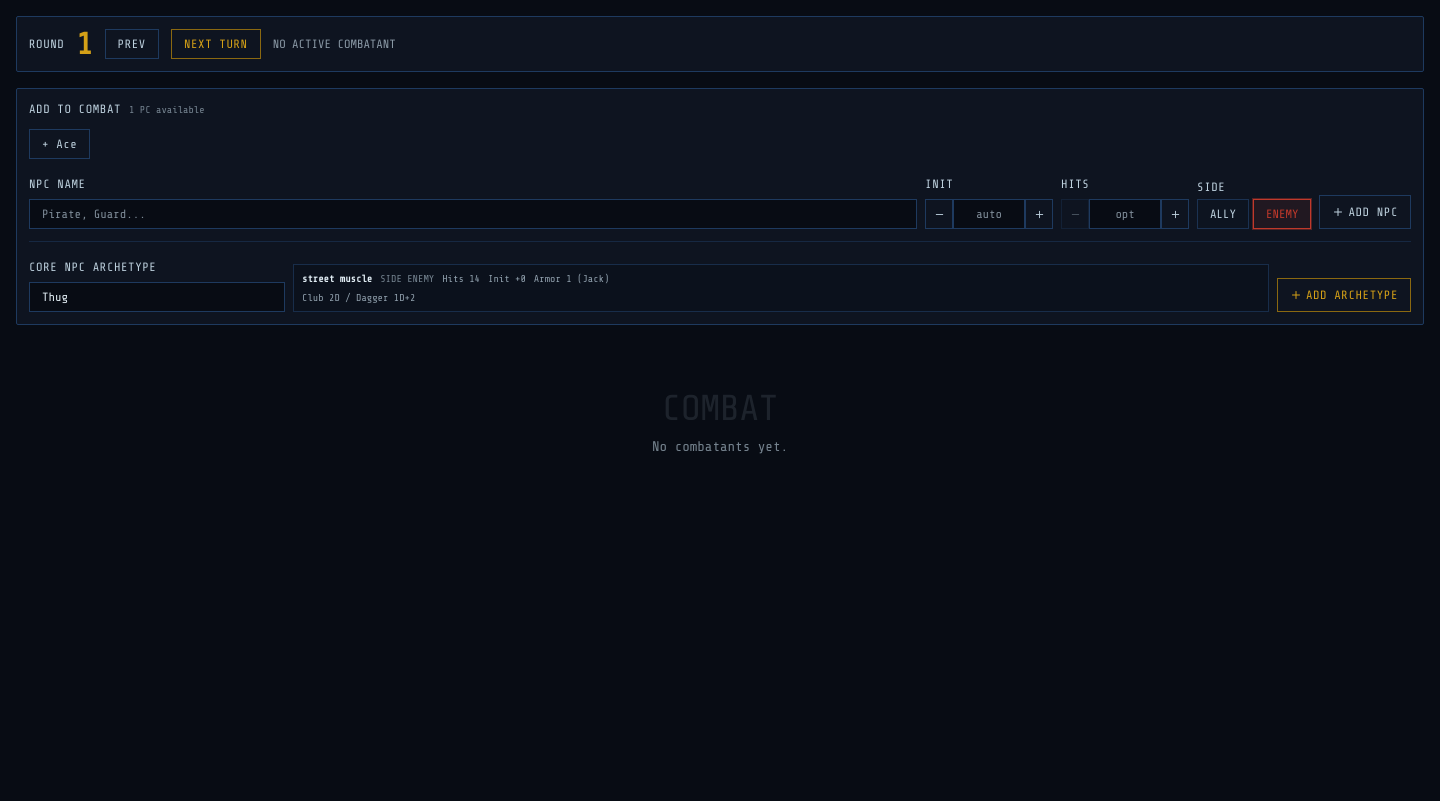
Test case: CombatTracker › keeps collapsed PC cards round-focused and moves stats, skills, and weapons to details
The width and height of the screenshot is (1440, 801).
Click the button "+ Ace": [60, 144] box [29,129,90,159]
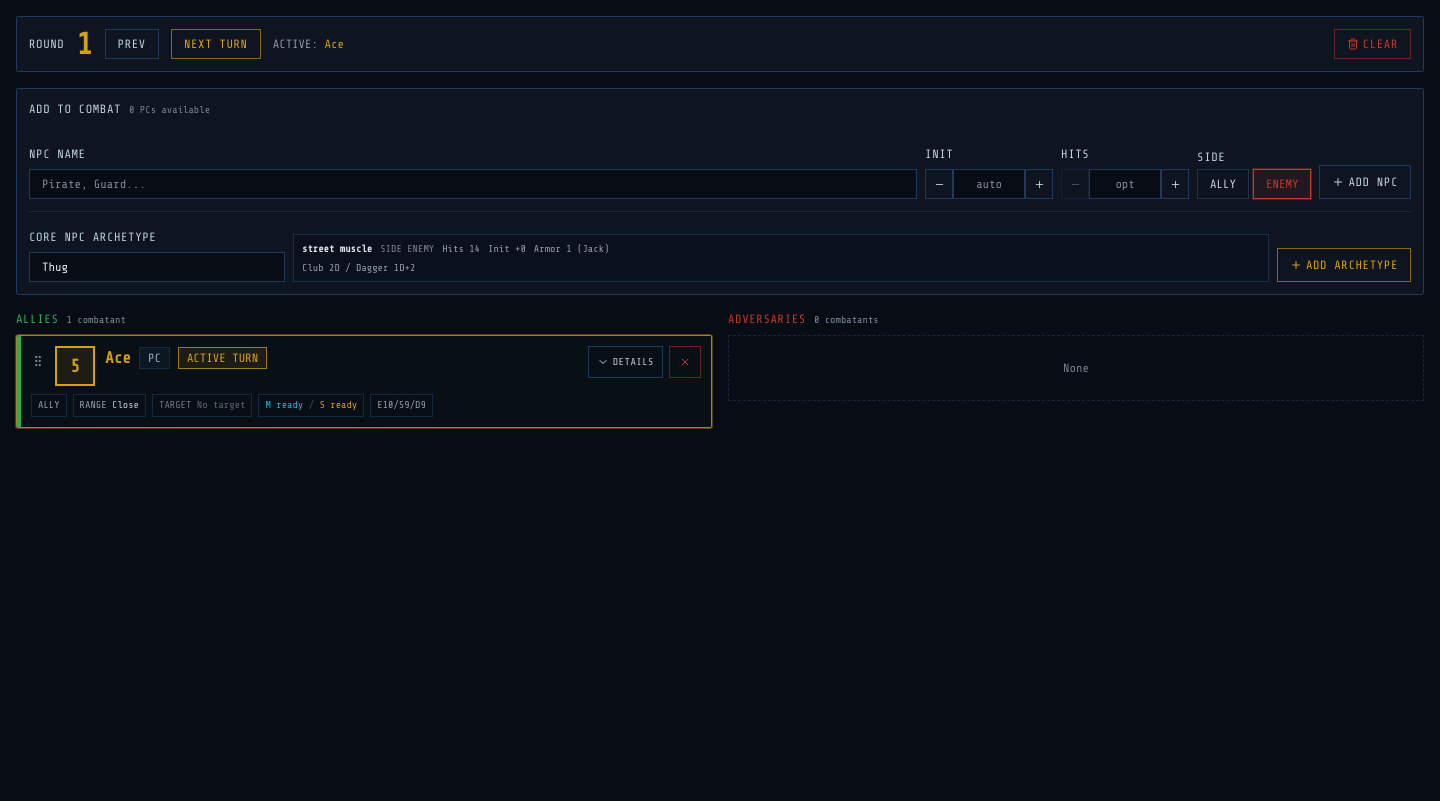
Expected: the text "UPP 9BB8A4" is not shown
Expected: the text "E10/S9/D9" is shown, [370,394,433,416]
Click the button "DETAILS": [625, 362] box [588,346,663,378]
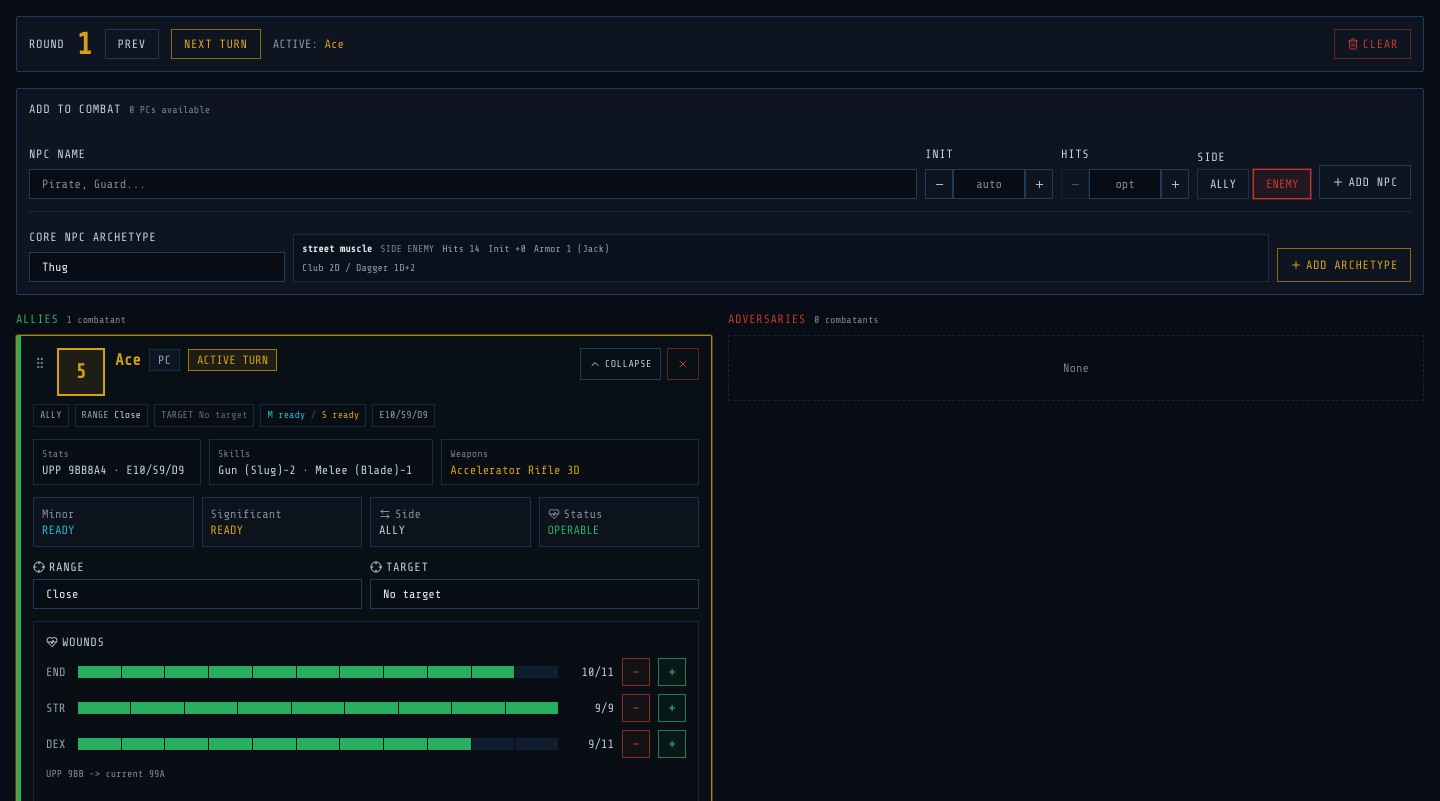
Expected: the text "UPP 9BB8A4 · E10/S9/D9" is shown, [42,462,192,478]
Expected: the text "Gun (Slug)-2 · Melee (Blade)-1" is shown, [218,462,424,478]
Expected: the element titled "Gun Combat (Slug)-2" is shown, [209,438,433,484]
